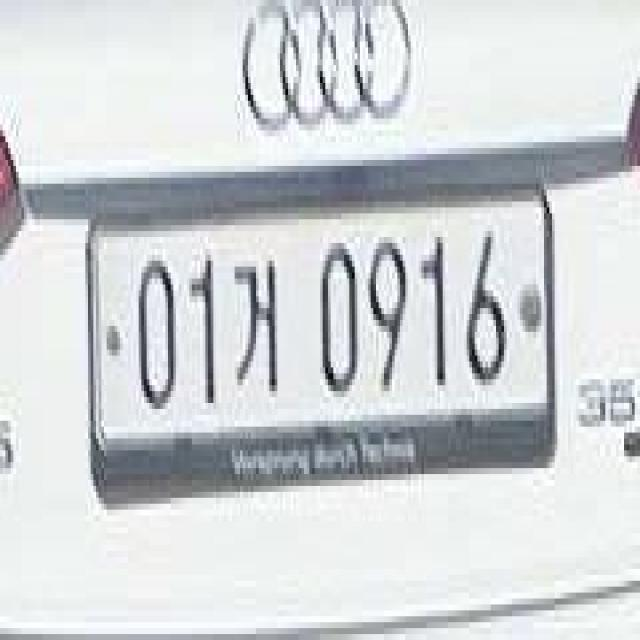illegal_plate: (84, 170, 563, 500)
